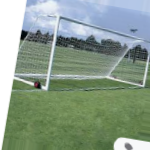goals: (13, 12, 150, 93)
